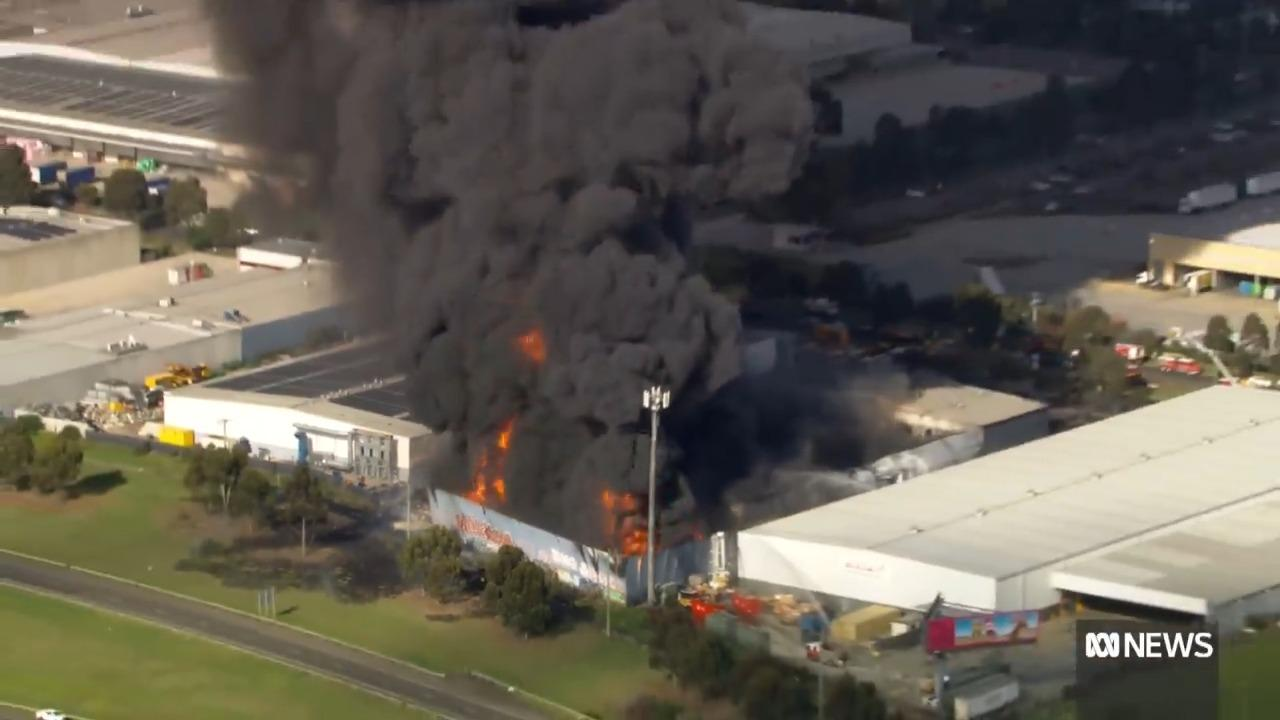fire: (597, 483, 665, 548), (467, 410, 514, 503), (507, 321, 574, 382)
